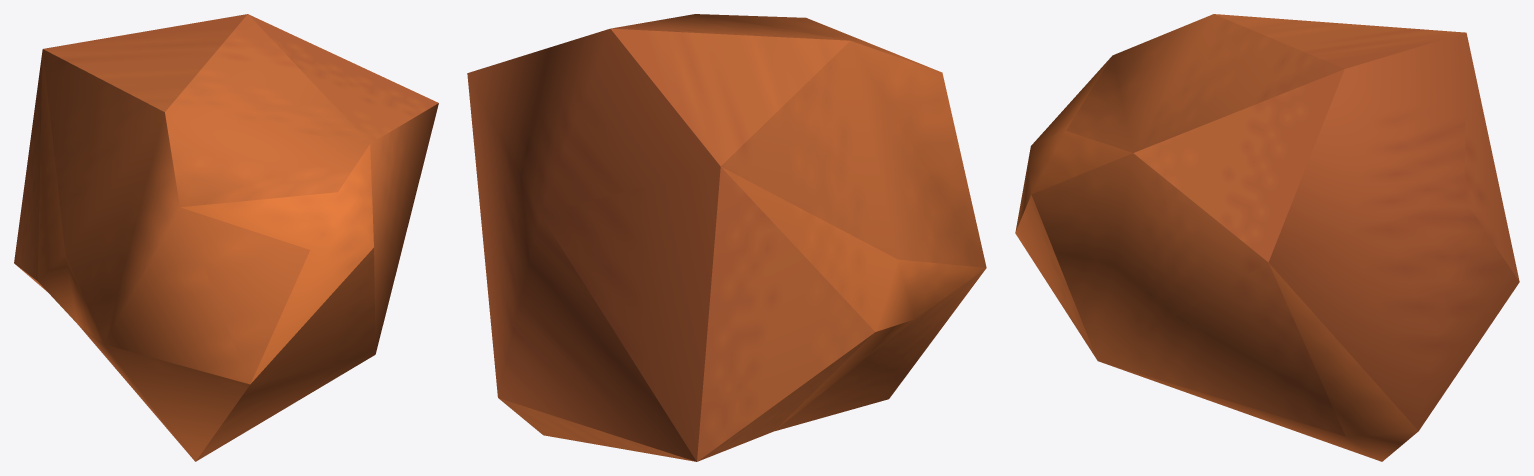
File: Copper_Nugget_Small.gltf
The picture shows the model from 3 angles, left to right: view 1: azimuth 30°, elevation 25°; view 2: azimuth 150°, elevation 25°; view 3: azimuth 270°, elevation 25°; orthographic projection. The views are drawn at different scales.
Parts seen in each view (by area): view 1: Copper_Nugget_Small; view 2: Copper_Nugget_Small; view 3: Copper_Nugget_Small.
Part boxes in pixels (x1=…): Copper_Nugget_Small: x1=14, y1=14, x2=438, y2=461; Copper_Nugget_Small: x1=467, y1=14, x2=986, y2=461; Copper_Nugget_Small: x1=1015, y1=14, x2=1519, y2=461.
Size of the model in its own units: 0.1411 by 0.1204 by 0.1461.
Materials: 1 (1 with a texture image).
